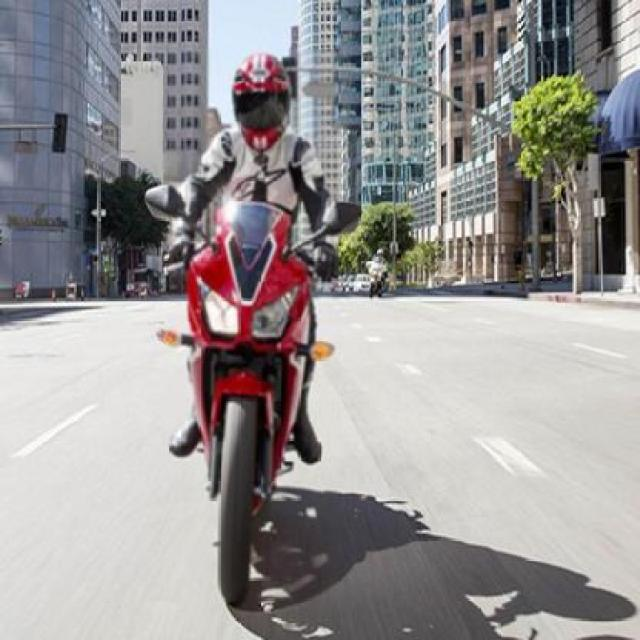helmet: (224, 44, 293, 162)
motorcycle: (132, 39, 361, 600)
